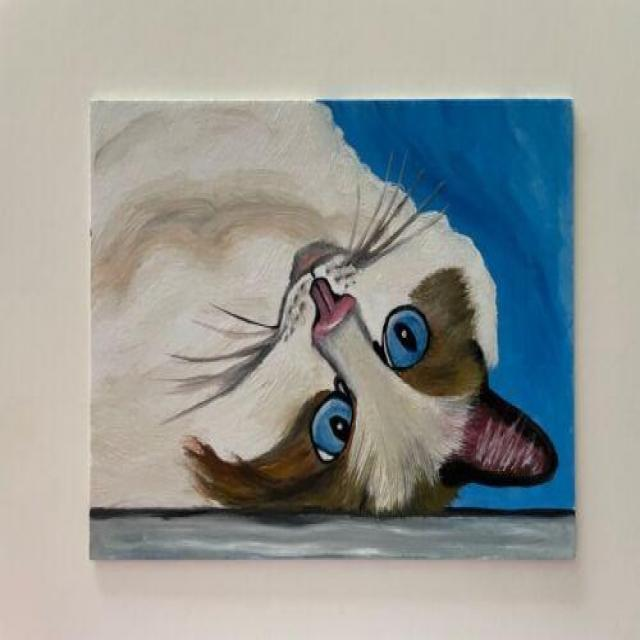painting: (88, 97, 572, 555)
